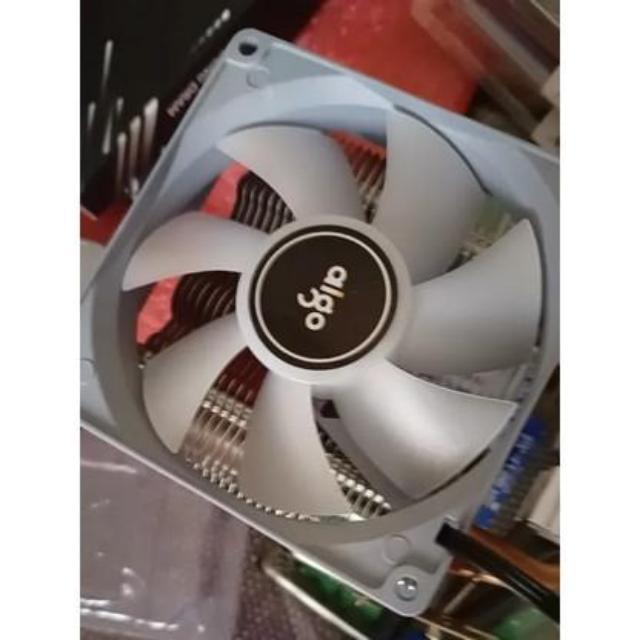CPU_Fan: (81, 28, 564, 617)
